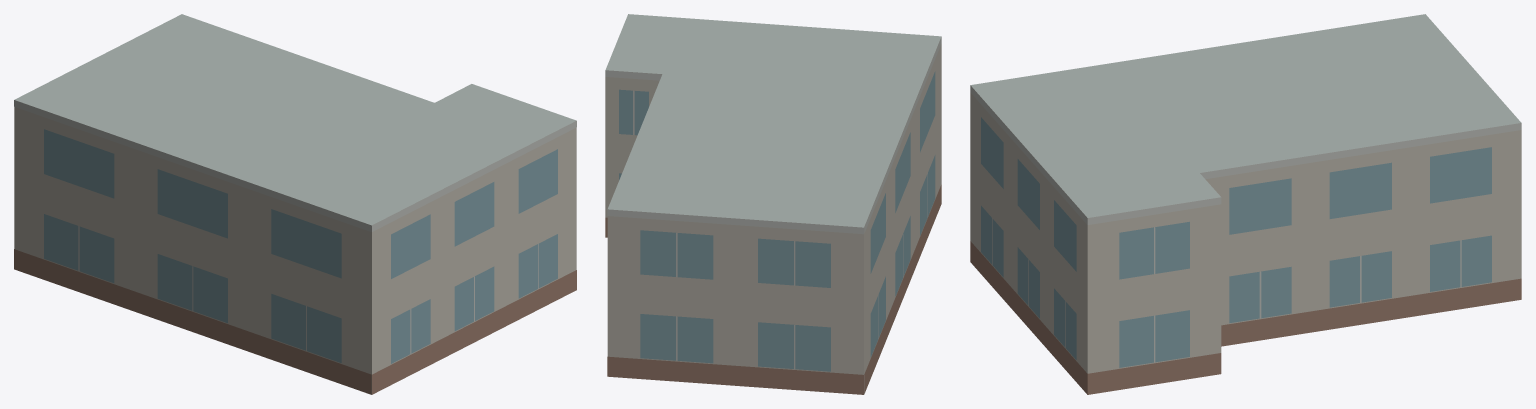
Rendered from survey-upis-32698428.glb.
3 views of the same model, side by side, from view 1: azimuth 30°, elevation 25°; view 2: azimuth 150°, elevation 25°; view 3: azimuth 270°, elevation 25° (orthographic). The views are drawn at different scales.
Parts seen in each view (by area): view 1: survey-upis-32698428.tmp; view 2: survey-upis-32698428.tmp; view 3: survey-upis-32698428.tmp.
Part boxes in pixels (box(x1,y1,x2,y2)): survey-upis-32698428.tmp: box(14, 14, 576, 394); survey-upis-32698428.tmp: box(605, 14, 941, 394); survey-upis-32698428.tmp: box(970, 14, 1521, 394).
Bounding box in the file's own units: 15.11 × 6.1 × 17.25.
